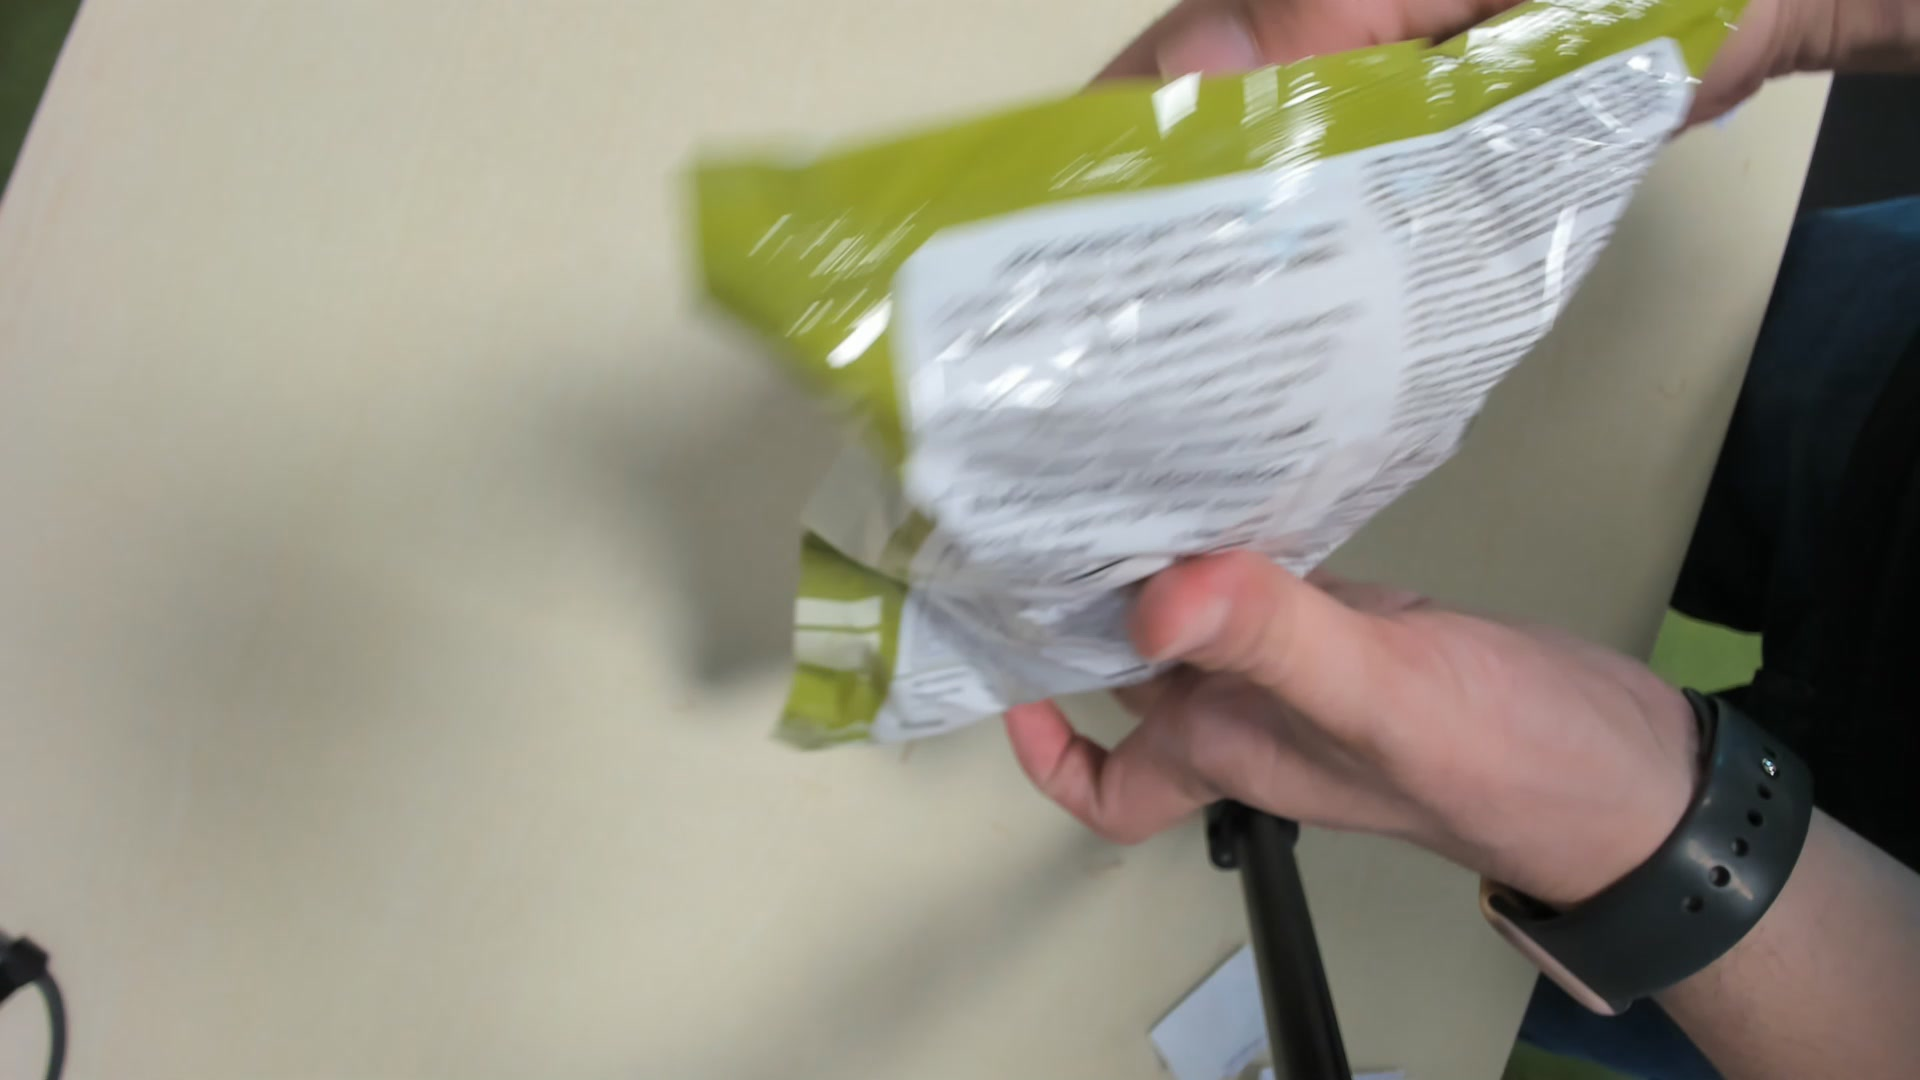BeeHoonVermicelli_200-299g_NonHalal_NonHealthy: (724, 18, 1741, 767)
